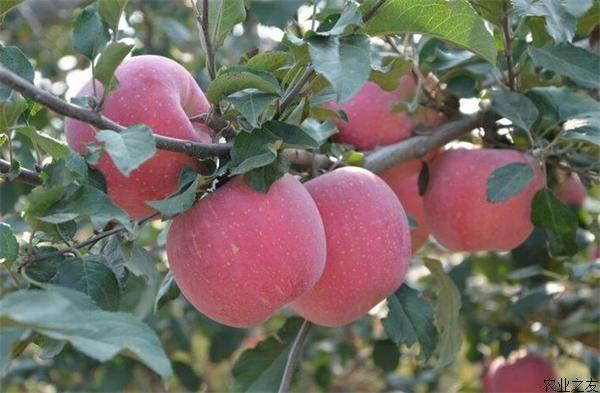apple: (166, 169, 326, 327), (62, 57, 217, 214), (281, 166, 409, 326), (424, 150, 557, 254), (318, 72, 432, 147)
